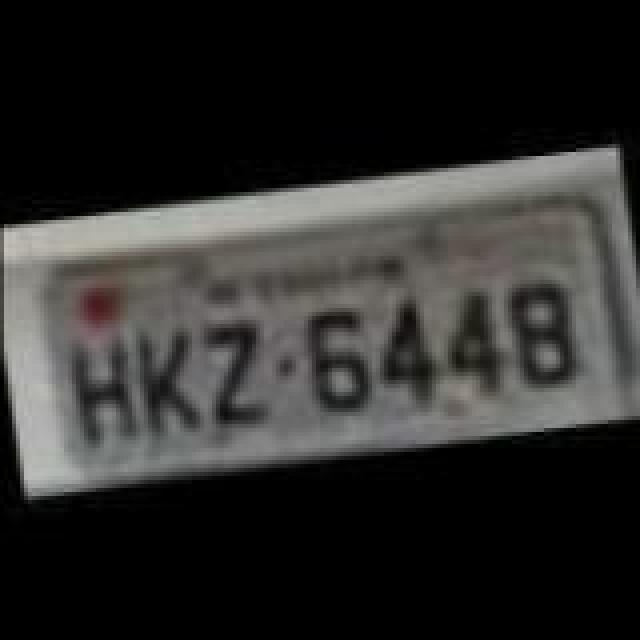4: (366, 288, 454, 416), (436, 280, 520, 408)
6: (296, 302, 380, 422)
8: (506, 274, 586, 398)
H: (60, 330, 148, 462)
K: (126, 318, 218, 446)
Z: (192, 318, 276, 442)
